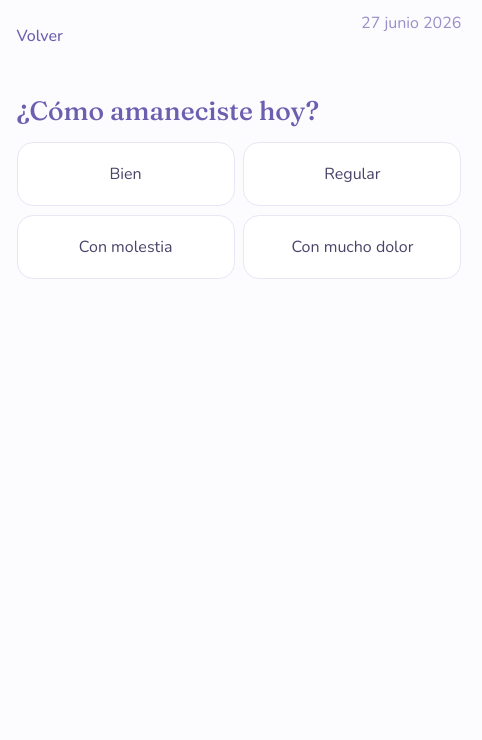
Test: RegistroDiario › elegir "Regular" despliega el formulario de detalle
The image size is (482, 740).
Click the button "Regular" at (352, 174), box 243,142 -> 461,206
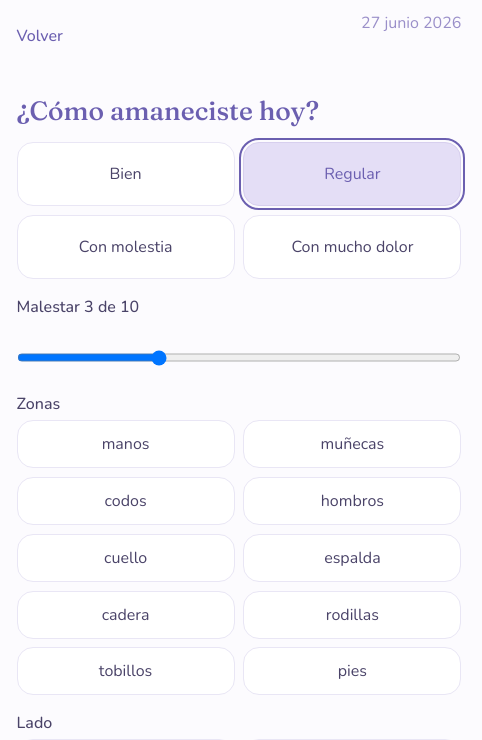
Check: the text "Malestar 3 de 10" is shown, box 17,296 -> 139,318
Check: the text "Zonas" is shown, box 17,392 -> 60,416
